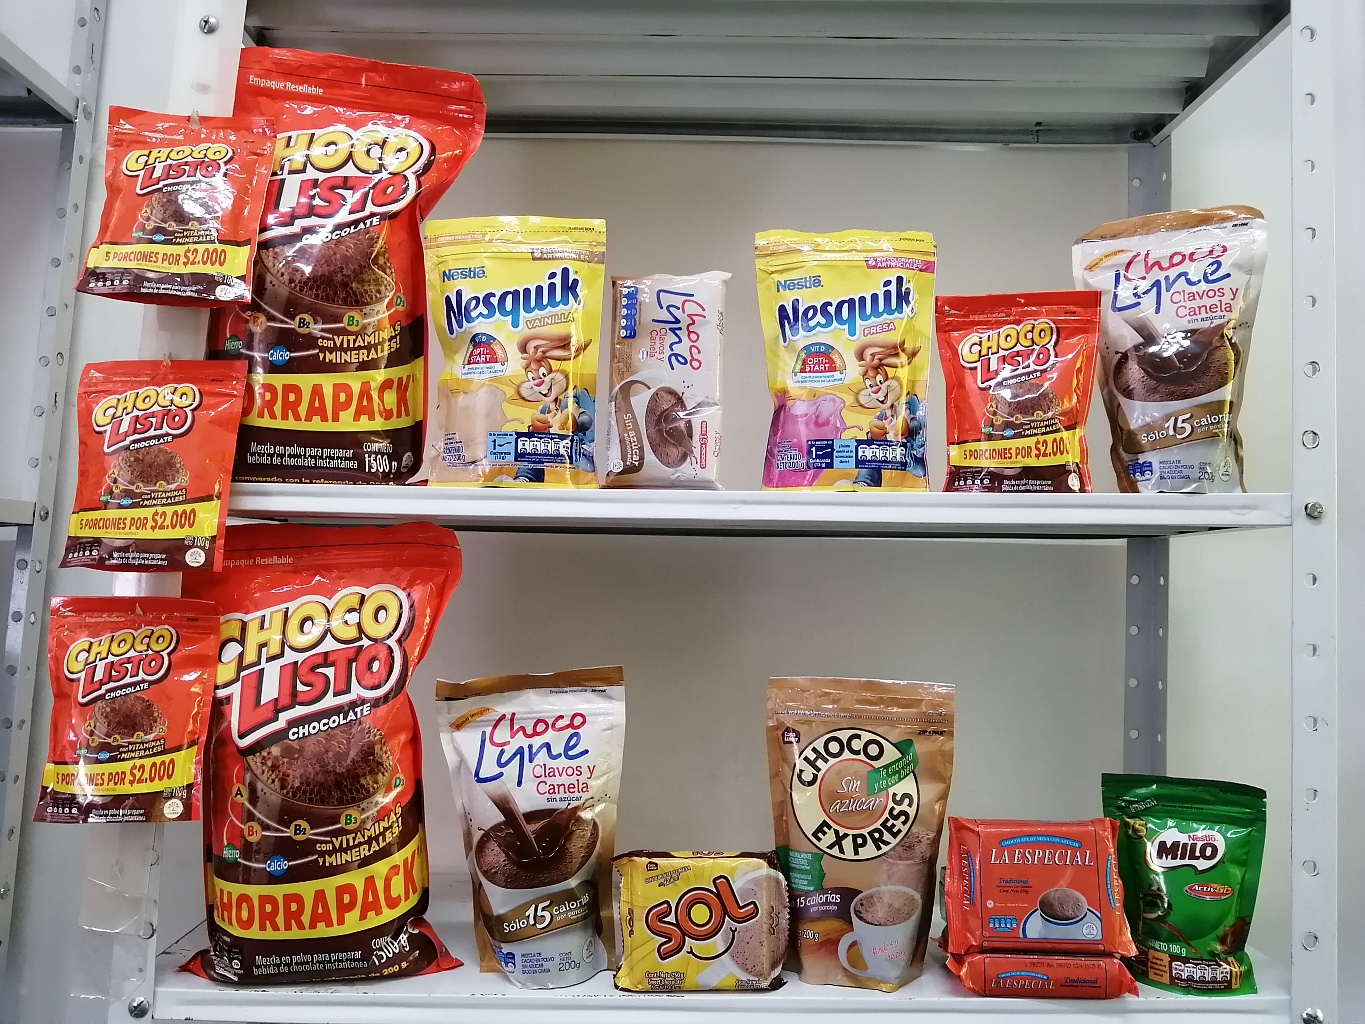COL0170103DYP1,500: (208, 24, 483, 477)
COL0170203DYP10000: (1104, 757, 1282, 999)
COL0170305DYP20000: (762, 210, 943, 487)
COL0170306DYP20000: (422, 201, 611, 483)
